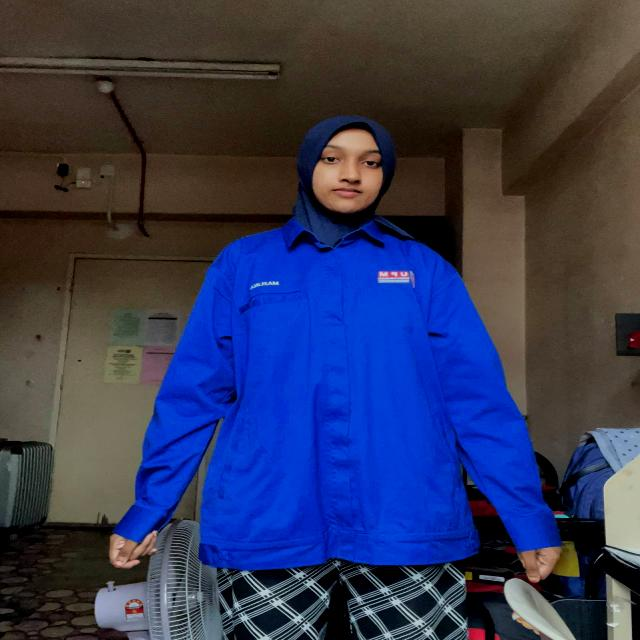person_with_labcoat: (110, 116, 559, 640)
